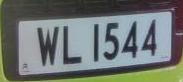1: (88, 18, 105, 68)
4: (120, 15, 141, 65), (141, 13, 161, 60)
5: (100, 17, 121, 67)
L: (60, 23, 85, 69)
W: (34, 22, 62, 70)
